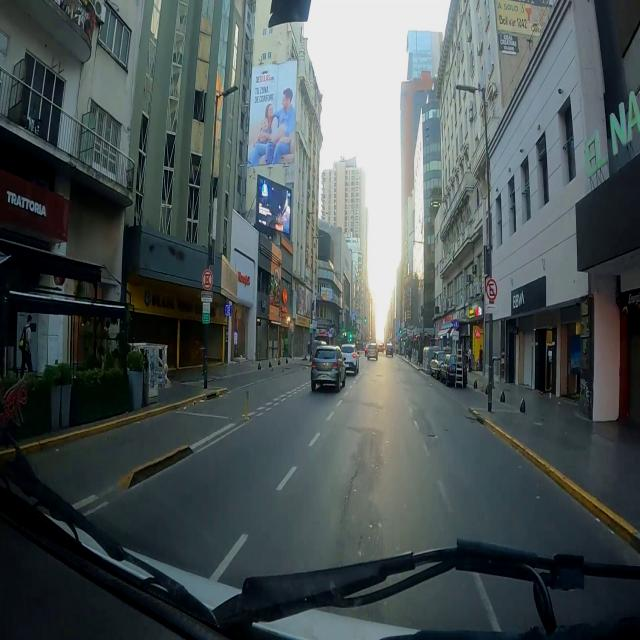car: (311, 345, 345, 391), (440, 354, 457, 386), (341, 344, 358, 374), (430, 351, 445, 379), (367, 344, 377, 360), (385, 342, 393, 356)
